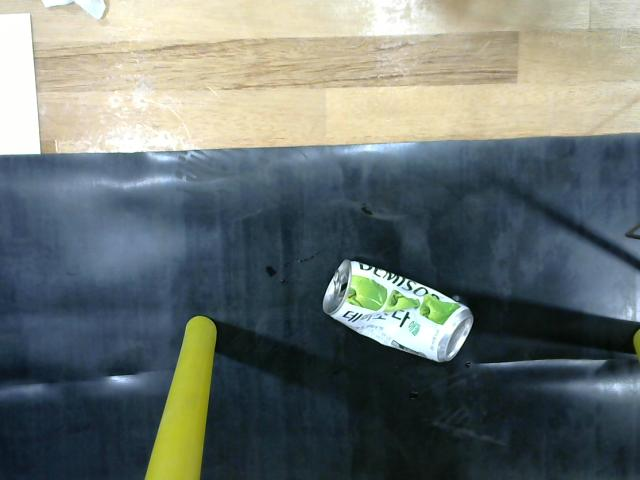can: (314, 256, 487, 374)
